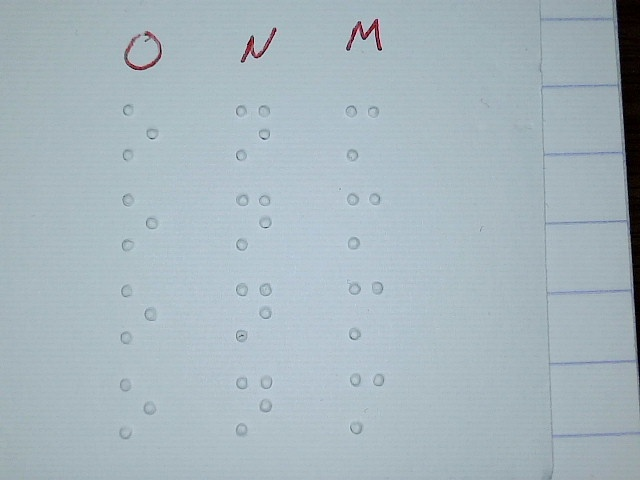M: (349, 370, 386, 434), (344, 103, 381, 162), (345, 190, 382, 249), (347, 280, 384, 339)
N: (235, 373, 273, 435), (235, 103, 272, 162), (236, 192, 273, 251), (236, 281, 272, 341)
O: (120, 283, 157, 344), (120, 378, 157, 439), (122, 103, 159, 162), (122, 192, 159, 251)
